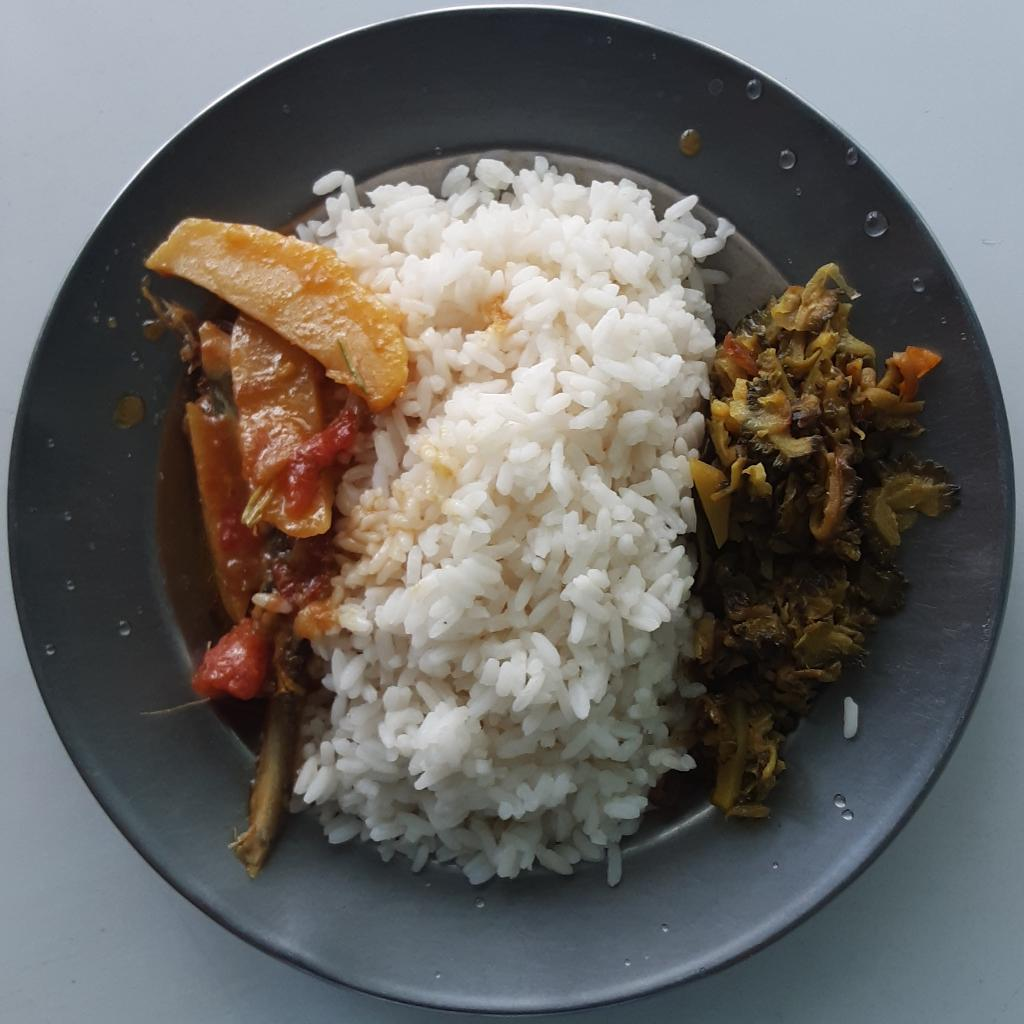fish: (227, 631, 301, 885)
korola-vaji: (692, 268, 957, 817)
potato: (143, 216, 411, 626)
rice: (290, 158, 742, 889)
